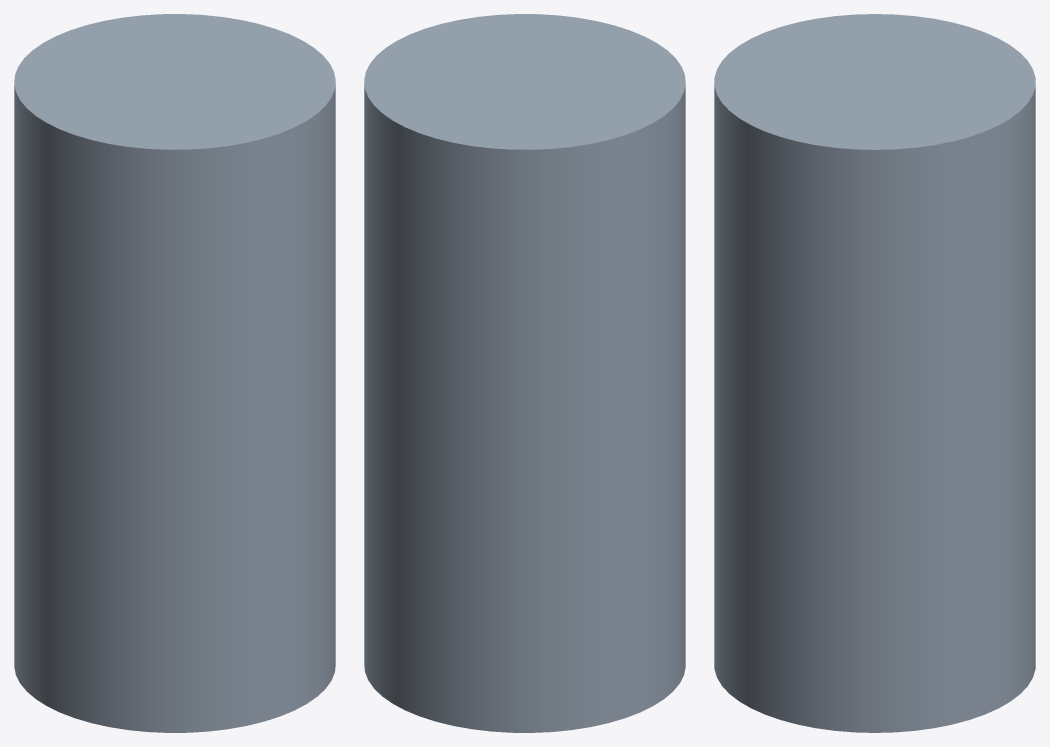
File: fuelrod_base.obj
3 views of the same model, side by side, from view 1: azimuth 30°, elevation 25°; view 2: azimuth 150°, elevation 25°; view 3: azimuth 270°, elevation 25° (orthographic).
Parts seen in each view (by area): view 1: 1; view 2: 1; view 3: 1.
Part boxes in pixels (bbox=[...]): 1: bbox=[14, 14, 335, 732]; 1: bbox=[364, 14, 685, 732]; 1: bbox=[714, 14, 1035, 732].
Bounding box in the file's own units: 10 × 20 × 9.98.
